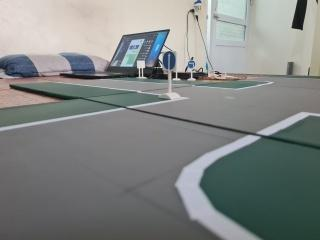straight: (161, 50, 179, 71)
